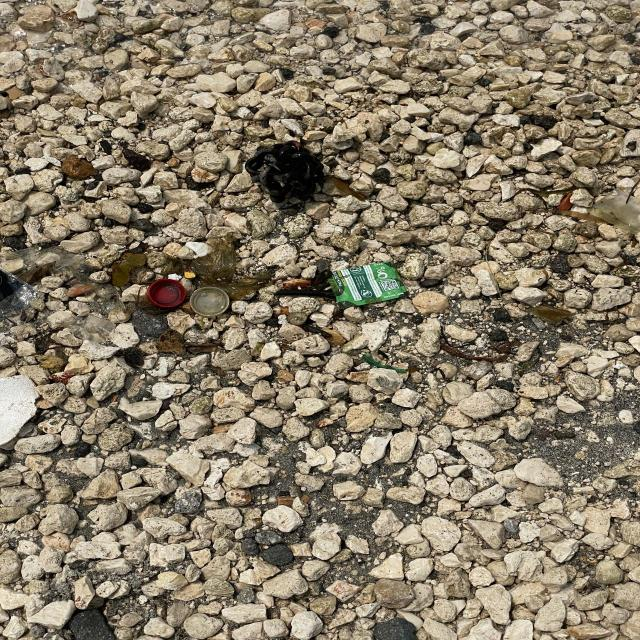plastic_waste: (328, 263, 408, 305), (192, 287, 233, 317), (148, 280, 188, 308)
